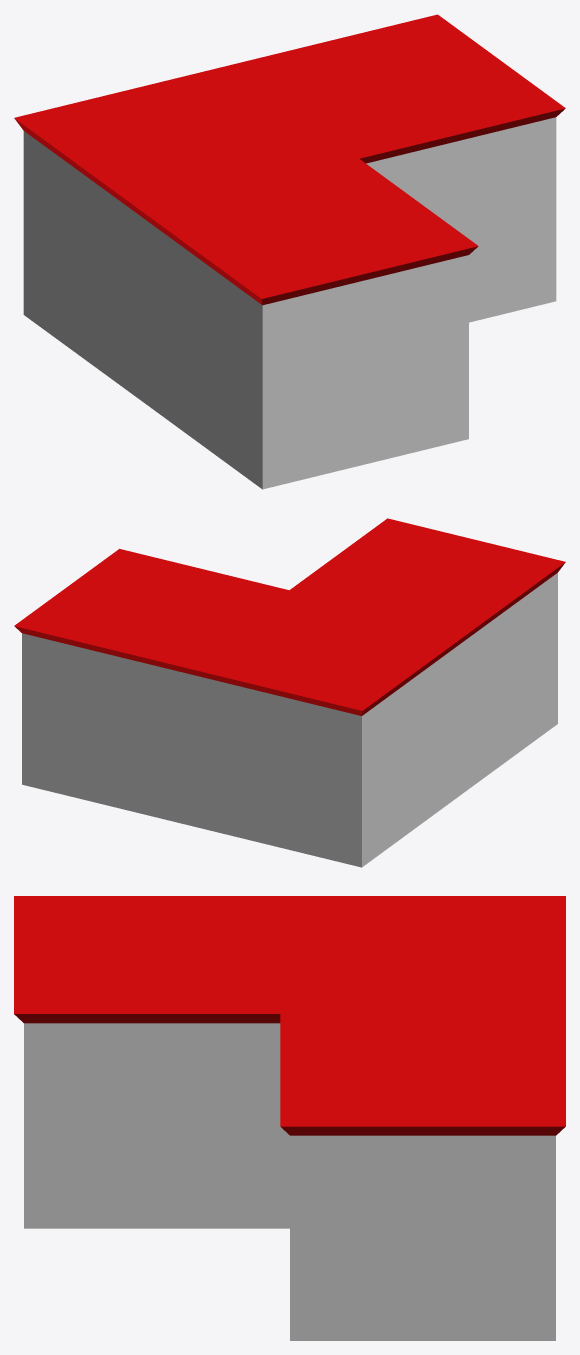
The model's file is House5LOD.fbx.
3 renders of one model, top to bottom at view 1: azimuth 30°, elevation 25°; view 2: azimuth 150°, elevation 25°; view 3: azimuth 270°, elevation 25°, orthographic. The views are drawn at different scales.
Visible parts, largest first — view 1: House5_LOD1; view 2: House5_LOD1; view 3: House5_LOD1.
Boxes of the visible parts, x1,y1,x2,y2 form: House5_LOD1: (14,14,565,489); House5_LOD1: (14,518,565,867); House5_LOD1: (14,896,565,1340).
Bounding box in the file's own units: 1025 × 450 × 1037.
